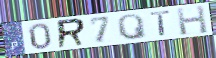0: (27, 22, 54, 51)
7: (89, 15, 112, 45)
H: (175, 4, 210, 36)
Q: (116, 13, 149, 41)
R: (56, 17, 87, 50)
T: (149, 9, 173, 37)
